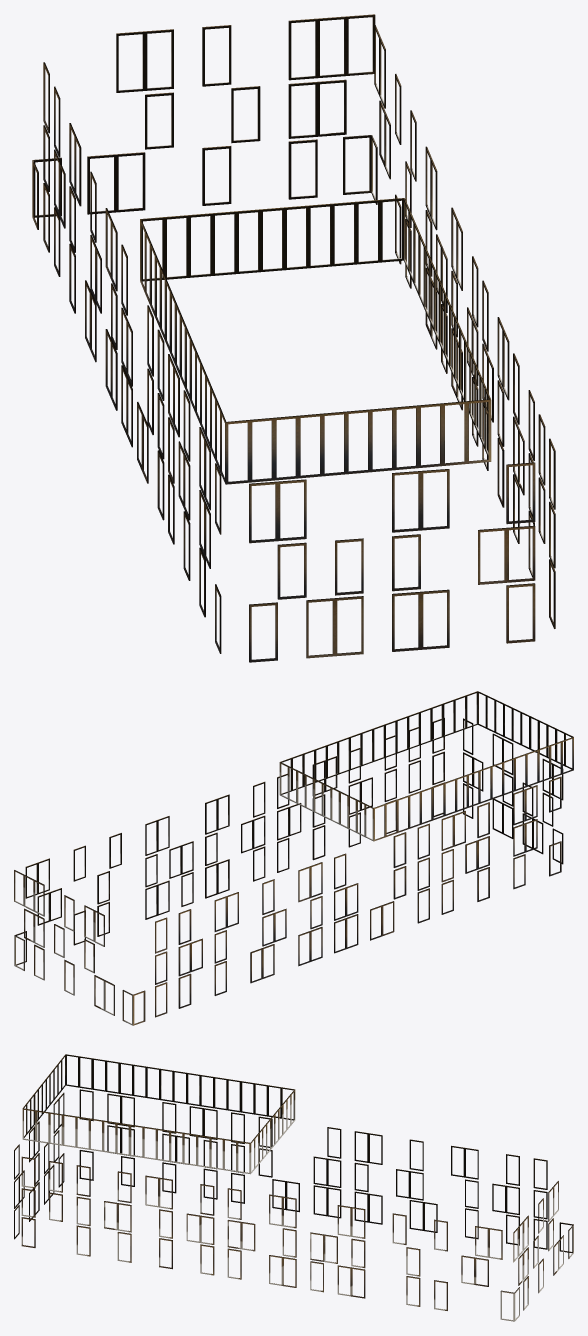
File: Building_03_Frame.fbx
3 renders of one model, top to bottom at view 1: azimuth 30°, elevation 25°; view 2: azimuth 150°, elevation 25°; view 3: azimuth 270°, elevation 25°, orthographic. The views are drawn at different scales.
Visible parts, largest first — view 1: Building_03_Frame; view 2: Building_03_Frame; view 3: Building_03_Frame.
Boxes of the visible parts, left/top/right/bottom form: Building_03_Frame: left=32, top=14, right=555, bottom=662; Building_03_Frame: left=14, top=691, right=573, bottom=1025; Building_03_Frame: left=14, top=1054, right=573, bottom=1321.
Size of the model in its own units: 30.14 by 11.77 by 48.91.
Materials: 1 (1 with a texture image).
